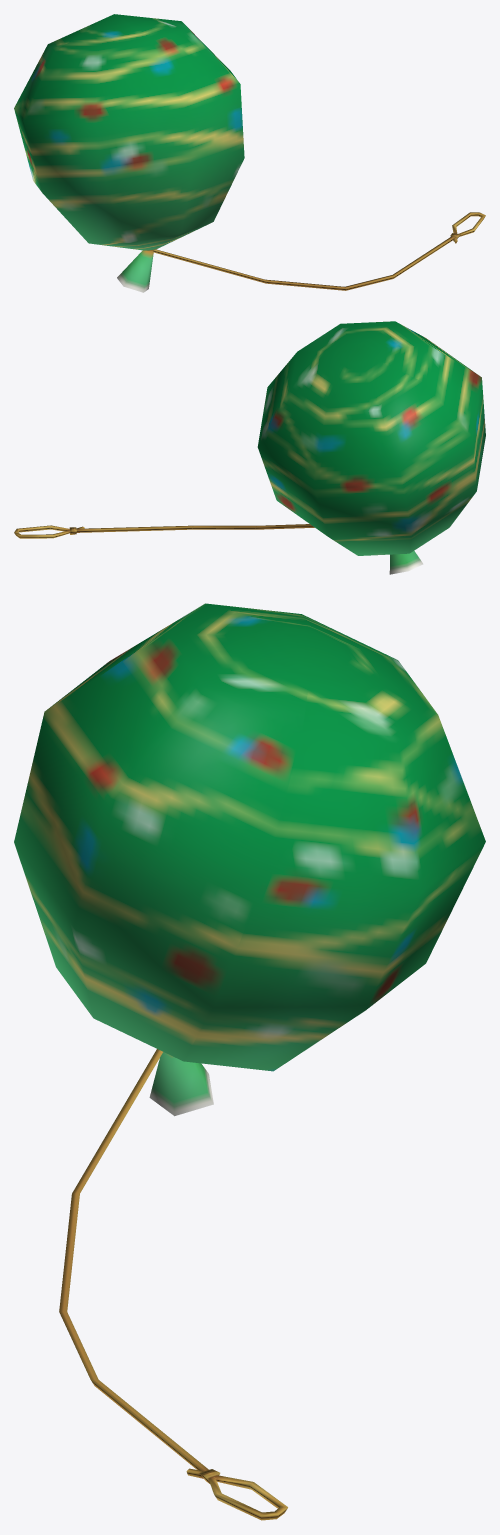
File: jsf_WaterBalloon_05_b.fbx
3 renders of one model, top to bottom at view 1: azimuth 30°, elevation 25°; view 2: azimuth 150°, elevation 25°; view 3: azimuth 270°, elevation 25°, orthographic. The views are drawn at different scales.
Parts seen in each view (by area): view 1: jsf_WaterBalloon_05_b; view 2: jsf_WaterBalloon_05_b; view 3: jsf_WaterBalloon_05_b.
Boxes of the visible parts, x1,y1,x2,y2 form: jsf_WaterBalloon_05_b: (14, 14, 485, 292); jsf_WaterBalloon_05_b: (14, 321, 485, 574); jsf_WaterBalloon_05_b: (14, 603, 485, 1520).
Bounding box in the file's own units: 24.35 × 14.34 × 11.11.
